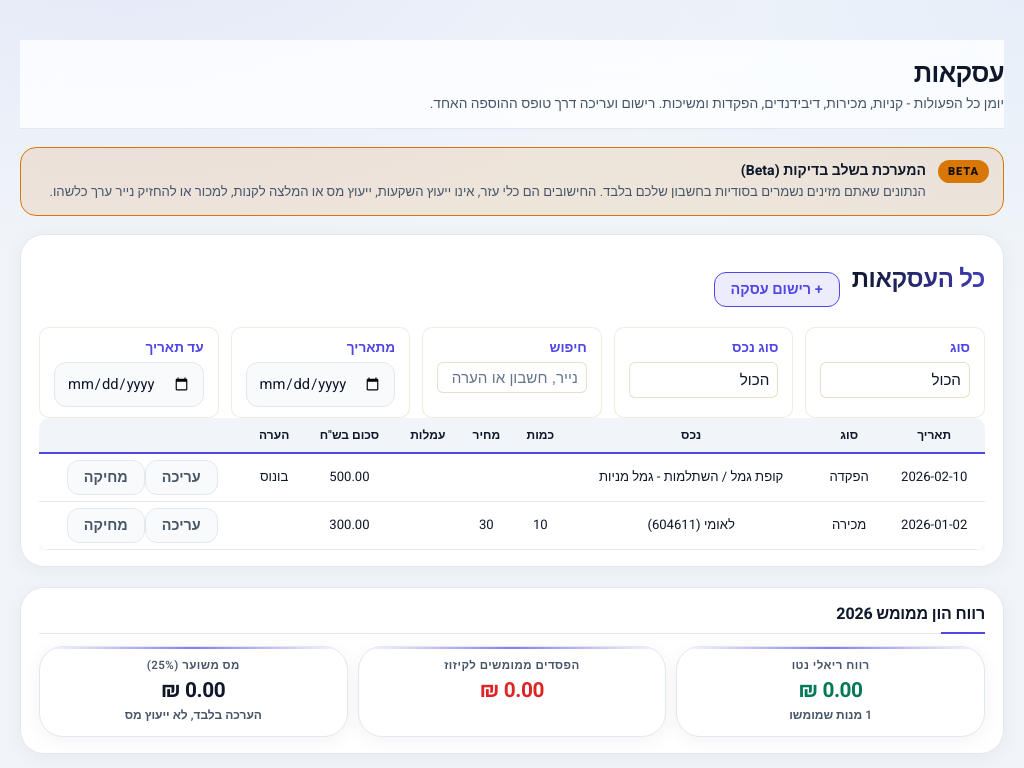
filters by type, asset class, text and dates
Select "הפקדה" in the dropdown labelled "סוג" at (895, 380), box [820,362,970,398]
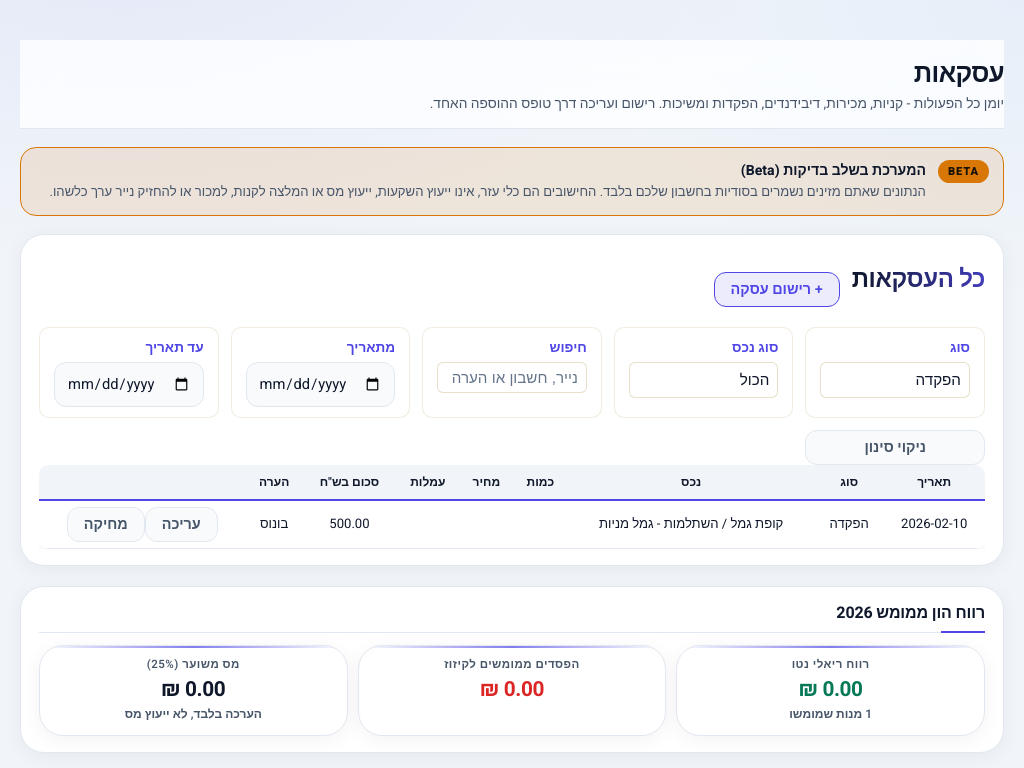
Check: the text "הפקדה" is shown, box [815,500,883,548]
Check: the text "מכירה" is gone
Click the button "ניקוי סינון" at (895, 447), box [805,430,985,465]
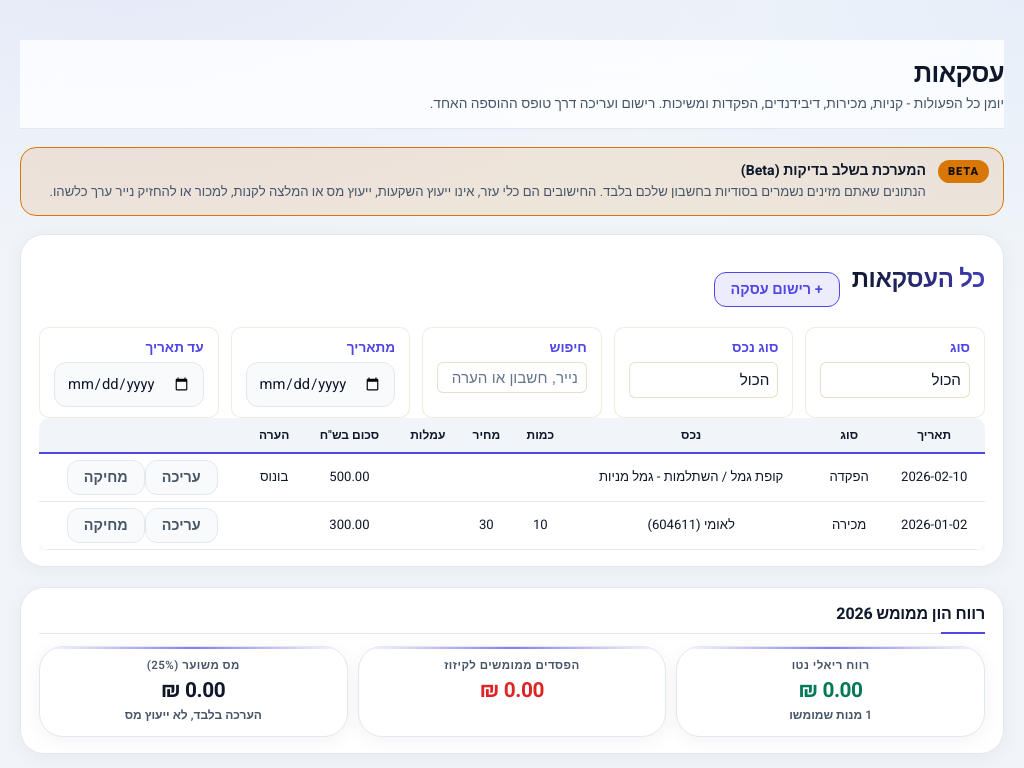
Check: the text "מכירה" is shown, box [815,501,883,549]
